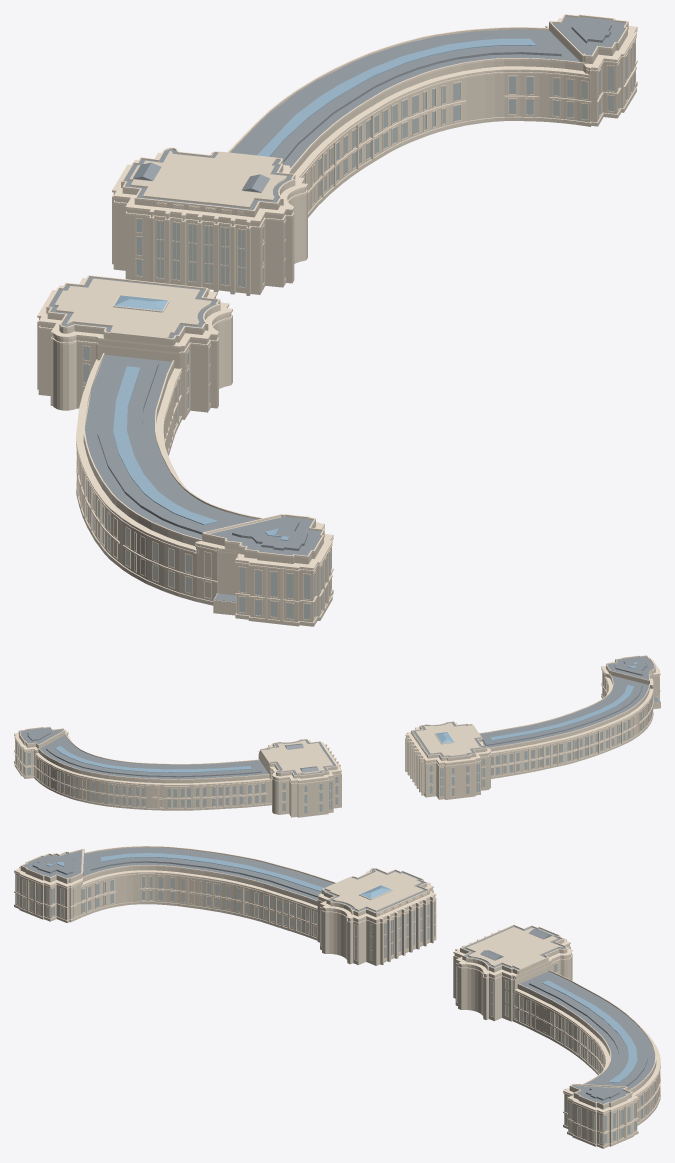
The model's file is detail.glb.
3 views of the same model, one above another, from view 1: azimuth 30°, elevation 25°; view 2: azimuth 150°, elevation 25°; view 3: azimuth 270°, elevation 25° (orthographic). The views are drawn at different scales.
Visible parts, largest first — view 1: stone, trim, roof, window, glass; view 2: stone, trim, roof, window, glass; view 3: stone, trim, roof, window, glass.
Boxes of the visible parts, box(x1,y1,x2,y2) form: stone: box(37, 23, 637, 626); trim: box(37, 14, 637, 620); roof: box(49, 16, 625, 602); window: box(79, 43, 634, 619); glass: box(113, 38, 536, 540); stone: box(14, 660, 660, 817); trim: box(14, 655, 660, 814); roof: box(20, 656, 659, 779); window: box(16, 681, 651, 813); glass: box(55, 662, 637, 772); stone: box(14, 850, 660, 1148); trim: box(14, 846, 660, 1144); roof: box(23, 847, 654, 1104); window: box(16, 876, 655, 1143); glass: box(46, 853, 637, 1082).
Size of the model in its own units: 328 by 30 by 335.
